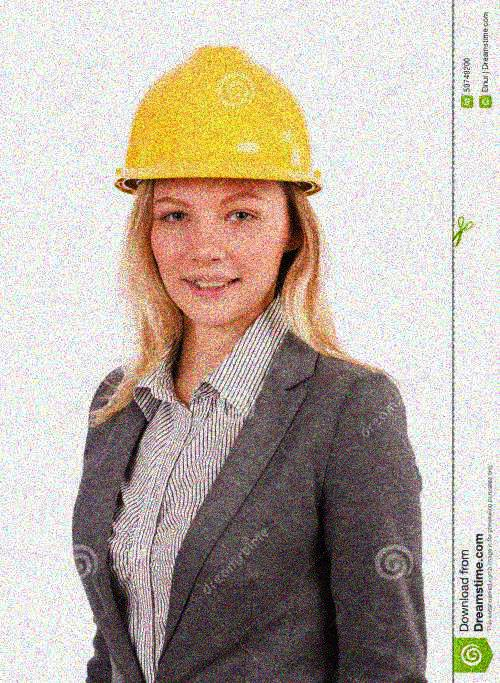helmet: (113, 38, 320, 317)
